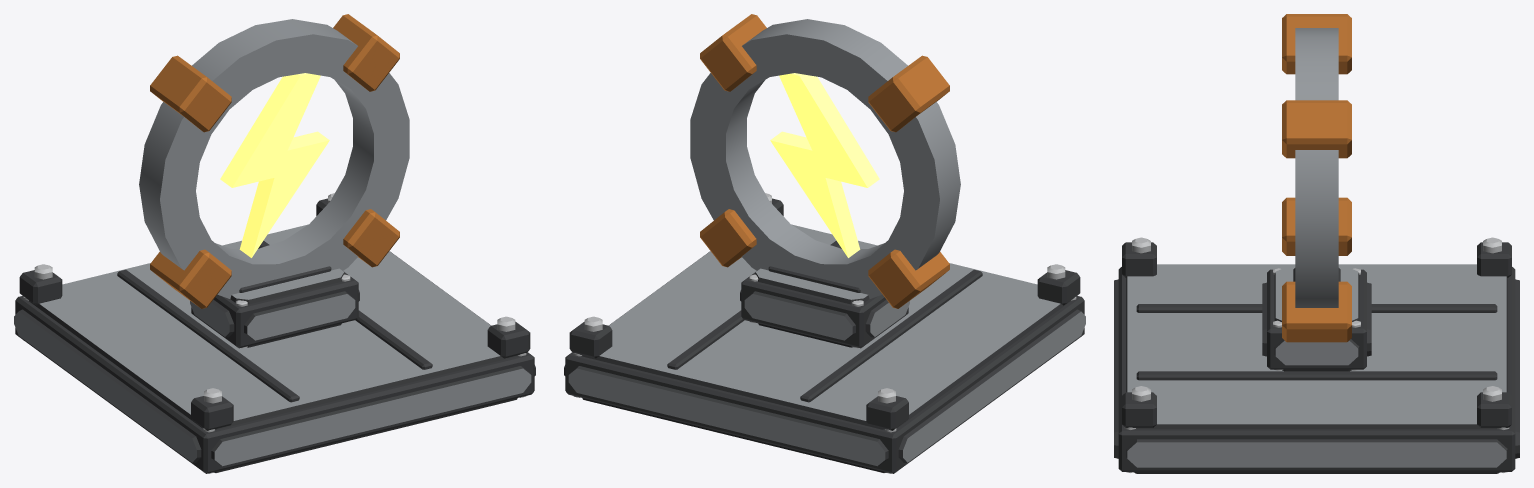
File: R4X_RechargePulse.fbx
3 views of the same model, side by side, from view 1: azimuth 30°, elevation 25°; view 2: azimuth 150°, elevation 25°; view 3: azimuth 270°, elevation 25° (orthographic). The views are drawn at different scales.
Visible parts, largest first — view 1: R4X_RechargePulse_Body; view 2: R4X_RechargePulse_Body; view 3: R4X_RechargePulse_Body.
Boxes of the visible parts, bbox=[...] form: R4X_RechargePulse_Body: bbox=[14, 14, 535, 473]; R4X_RechargePulse_Body: bbox=[564, 14, 1085, 473]; R4X_RechargePulse_Body: bbox=[1114, 14, 1519, 473].
Bounding box in the file's own units: 0.52 × 0.497 × 0.52.
